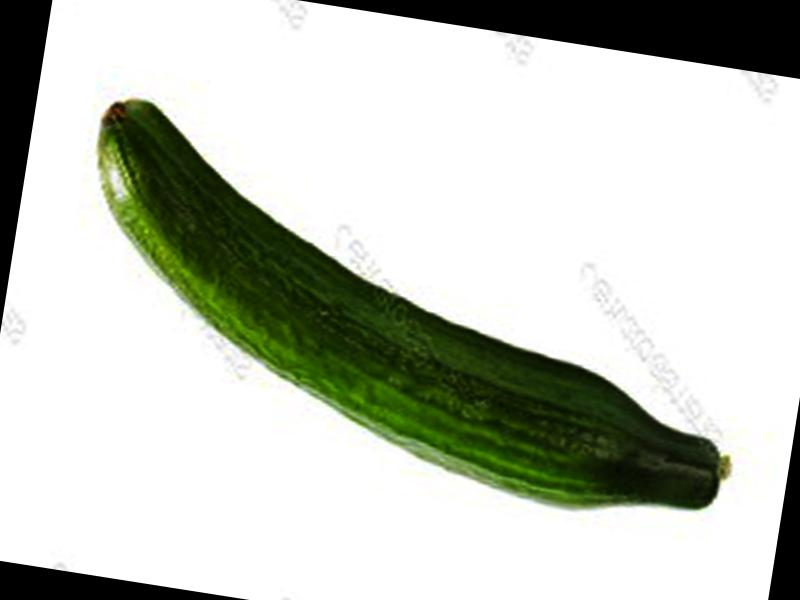Cucumber: (53, 92, 774, 531)
